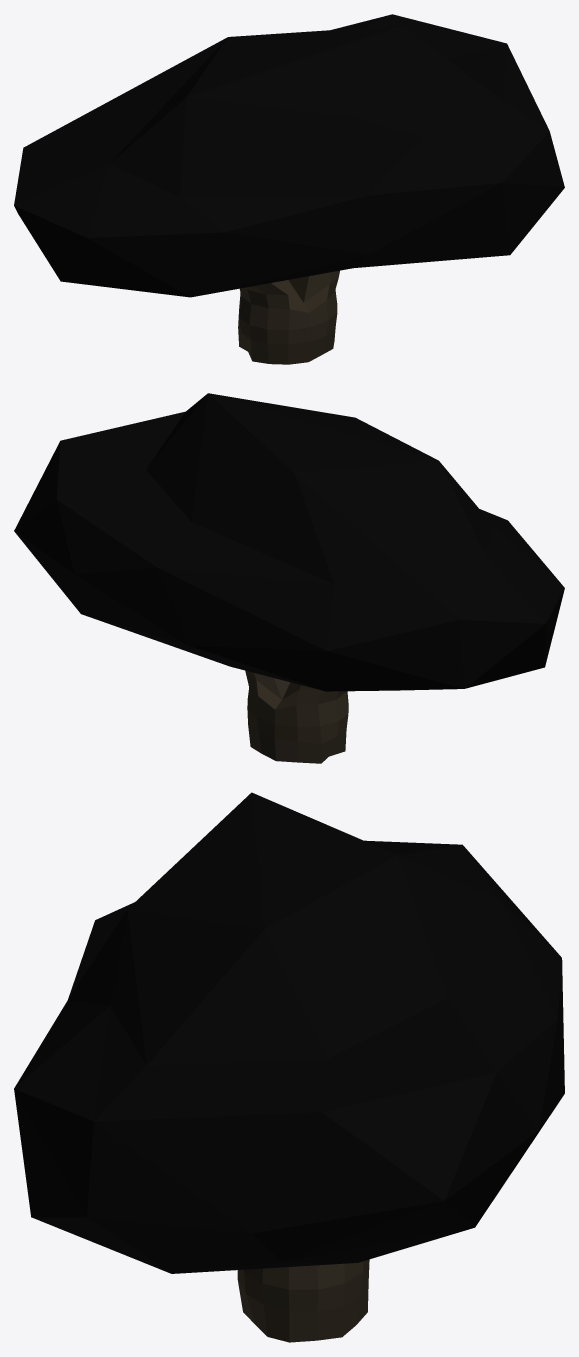
The model's file is bush1.fbx.
The picture shows the model from 3 angles, top to bottom: view 1: azimuth 30°, elevation 25°; view 2: azimuth 150°, elevation 25°; view 3: azimuth 270°, elevation 25°; orthographic projection. The views are drawn at different scales.
Parts seen in each view (by area): view 1: bush1; view 2: bush1; view 3: bush1.
Part boxes in pixels (bbox=[...]): bush1: bbox=[14, 14, 564, 364]; bush1: bbox=[14, 393, 564, 763]; bush1: bbox=[14, 792, 564, 1342].
Size of the model in its own units: 270 by 160 by 175.
